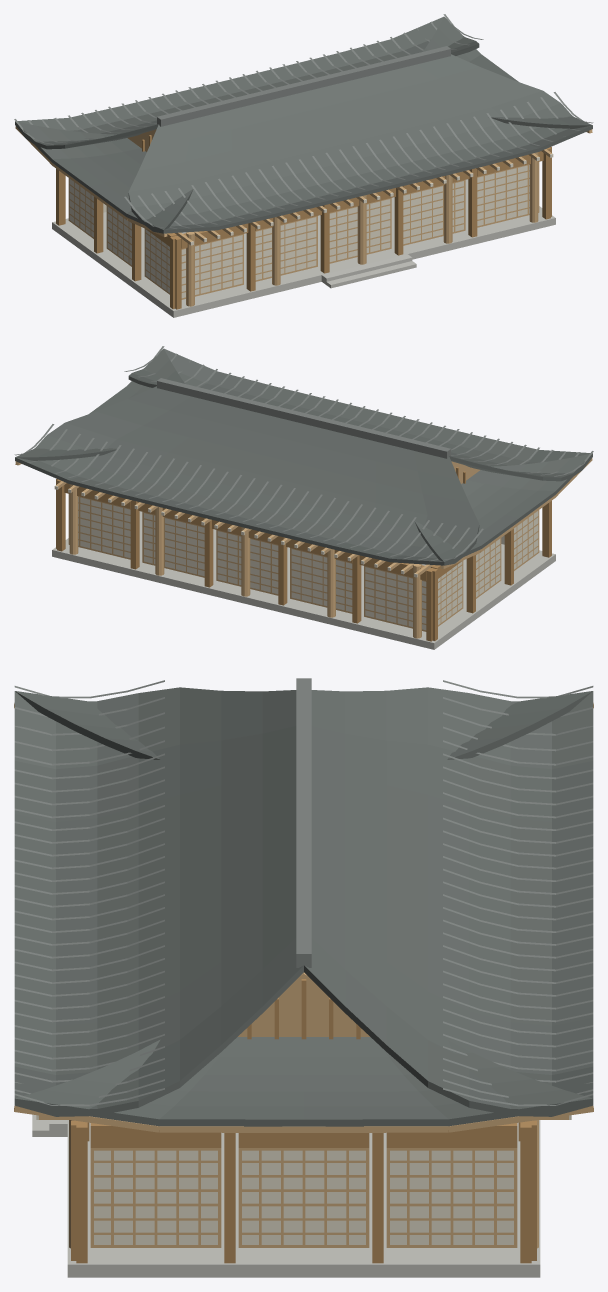
3 renders of one model, top to bottom at view 1: azimuth 30°, elevation 25°; view 2: azimuth 150°, elevation 25°; view 3: azimuth 270°, elevation 25°, orthographic. The views are drawn at different scales.
Visible parts, largest first — view 1: b876428419__roof, b876428419__plaster, b876428419__woodlight, b876428419__rooftile, b876428419__wood, b876428419__plinth, b876428419__stairs, b876428419__threshold; view 2: b876428419__roof, b876428419__plaster, b876428419__woodlight, b876428419__plinth, b876428419__rooftile, b876428419__wood; view 3: b876428419__roof, b876428419__plaster, b876428419__rooftile, b876428419__woodlight, b876428419__plinth, b876428419__wood.
Boxes of the visible parts, x1,y1,x2,y2 form: b876428419__roof: (15,16,592,233); b876428419__plaster: (69,153,553,298); b876428419__woodlight: (15,126,592,306); b876428419__rooftile: (14,14,593,228); b876428419__wood: (56,135,551,309); b876428419__plinth: (52,179,555,317); b876428419__stairs: (321,254,416,288); b876428419__threshold: (316,251,407,274); b876428419__roof: (15,348,592,565); b876428419__plaster: (54,485,538,630); b876428419__woodlight: (15,458,592,638); b876428419__plinth: (52,511,555,649); b876428419__rooftile: (14,346,593,560); b876428419__wood: (56,467,551,641); b876428419__roof: (14,687,593,1126); b876428419__plaster: (36,1115,571,1244); b876428419__rooftile: (14,678,593,1106); b876428419__woodlight: (14,703,593,1248); b876428419__plinth: (67,1120,540,1277); b876428419__wood: (71,979,536,1263).
Size of the model in its own units: 20.09 by 6.41 by 12.02.
